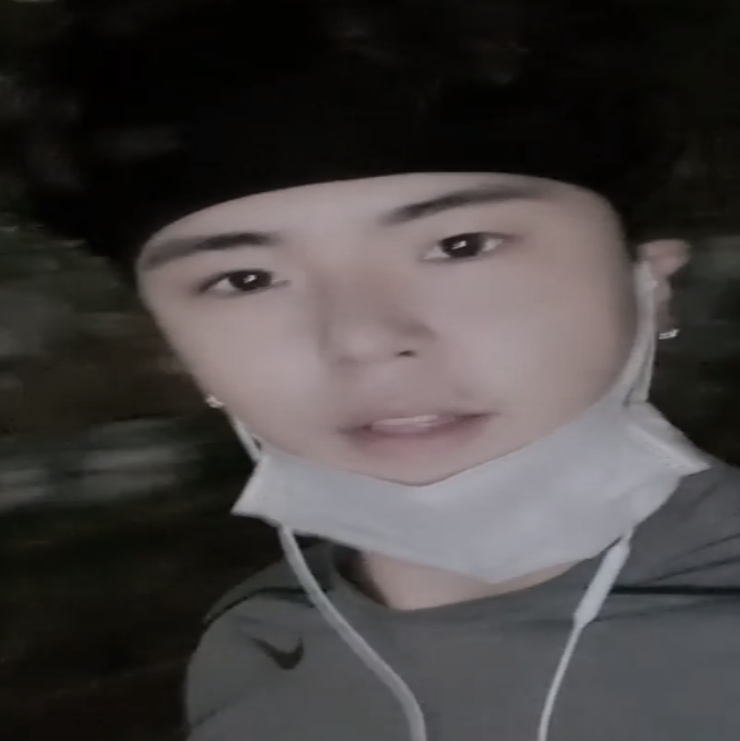mask_weared_incorrect: (129, 98, 697, 580)
